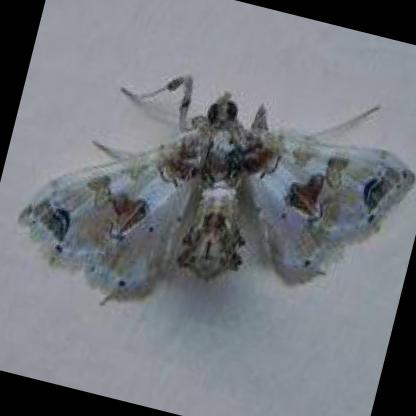leucinodes: (18, 72, 410, 295)
